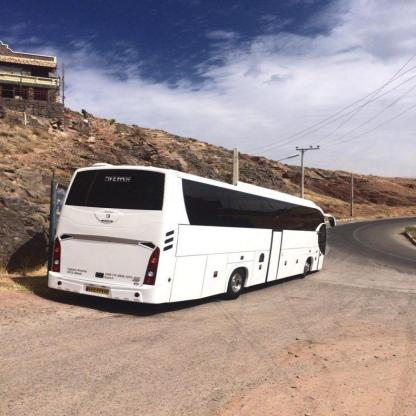Bus: (44, 165, 340, 318)
